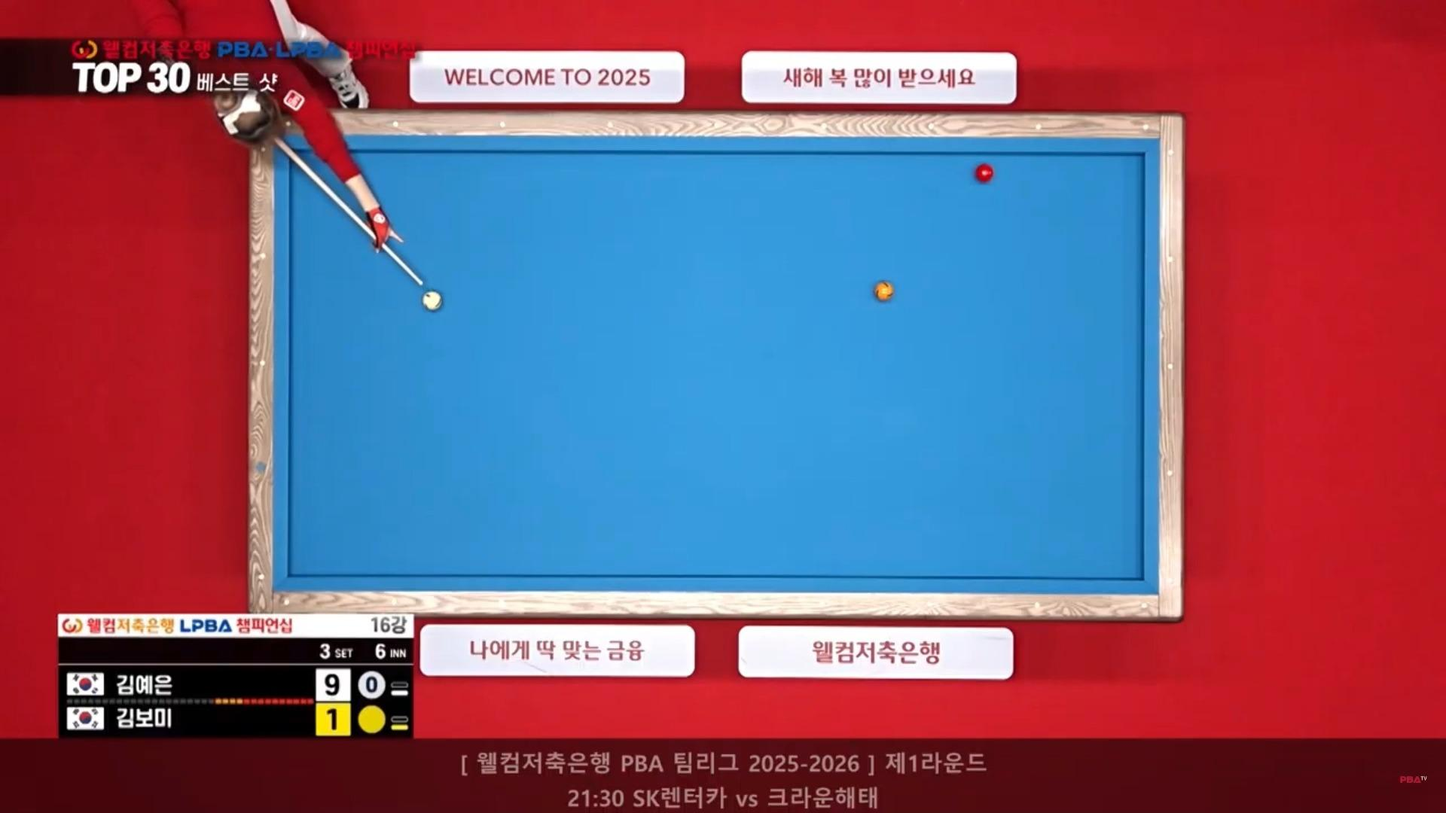-billiard-ball: (421, 289, 442, 312), (873, 280, 893, 301)
Red: (972, 166, 994, 184)
White: (420, 292, 444, 312)
Yellow: (872, 283, 896, 303)
